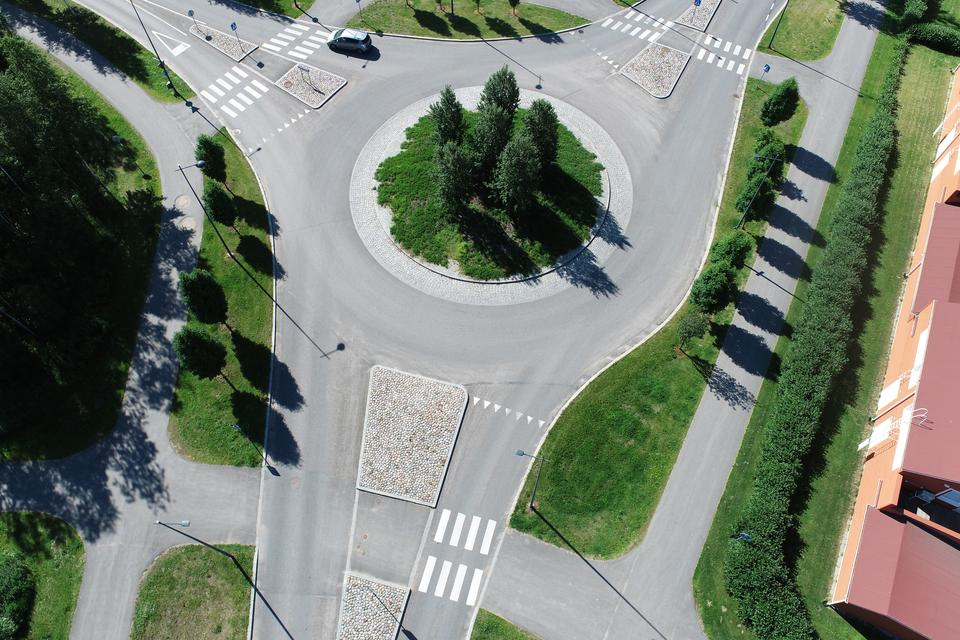intersection: (199, 459, 724, 640)
roundabout: (241, 8, 742, 391)
